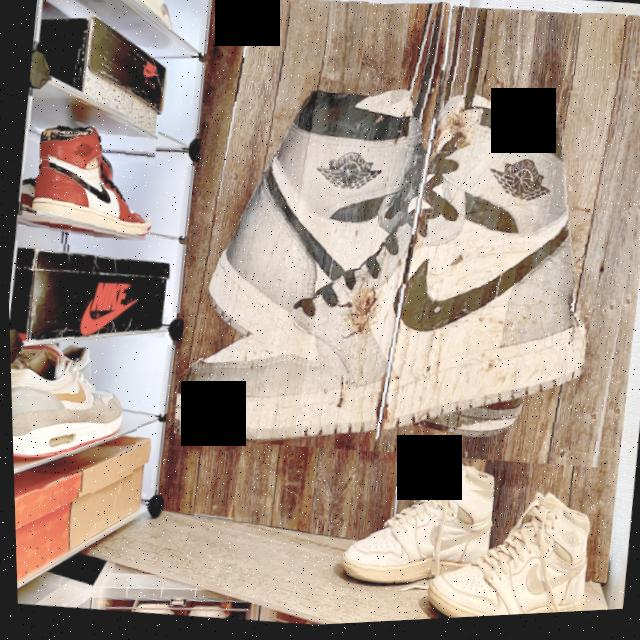shoe: (160, 21, 640, 494), (8, 323, 146, 501), (419, 485, 595, 623), (10, 100, 162, 256), (329, 455, 498, 595)
